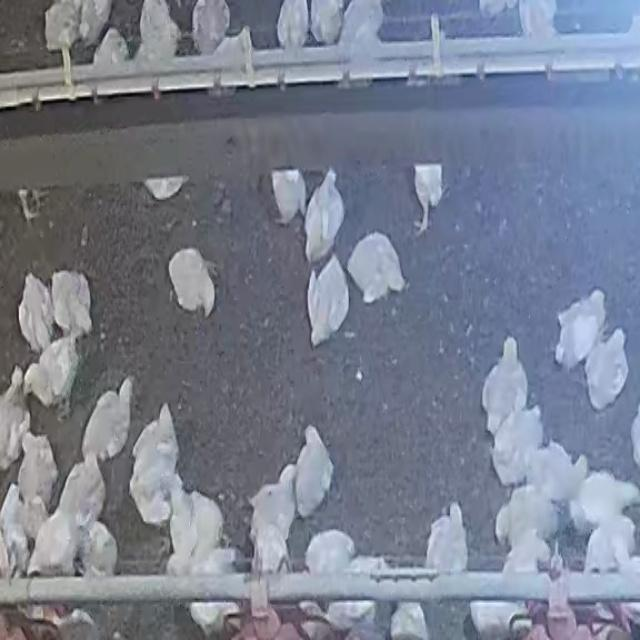chicken: (494, 488, 560, 569), (480, 336, 529, 434), (488, 403, 544, 487), (164, 486, 227, 560), (23, 335, 83, 412), (552, 290, 607, 371), (81, 377, 132, 464), (524, 439, 588, 507), (346, 232, 406, 304), (303, 168, 345, 264), (583, 326, 629, 413), (301, 262, 350, 342), (128, 405, 182, 476), (56, 456, 106, 532), (28, 506, 82, 576), (294, 424, 334, 518), (574, 470, 638, 528), (247, 469, 300, 538), (16, 429, 58, 516), (424, 504, 470, 574), (168, 249, 218, 313), (17, 272, 56, 354), (48, 269, 92, 338), (582, 518, 636, 573), (137, 0, 181, 63), (304, 529, 357, 576), (339, 0, 384, 54), (412, 163, 446, 234), (191, 1, 231, 54), (308, 0, 344, 45), (276, 0, 308, 49)
